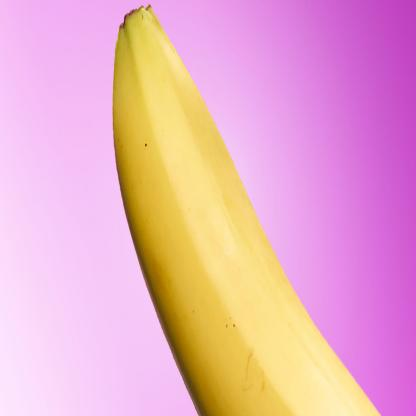banana: (100, 4, 385, 416)
